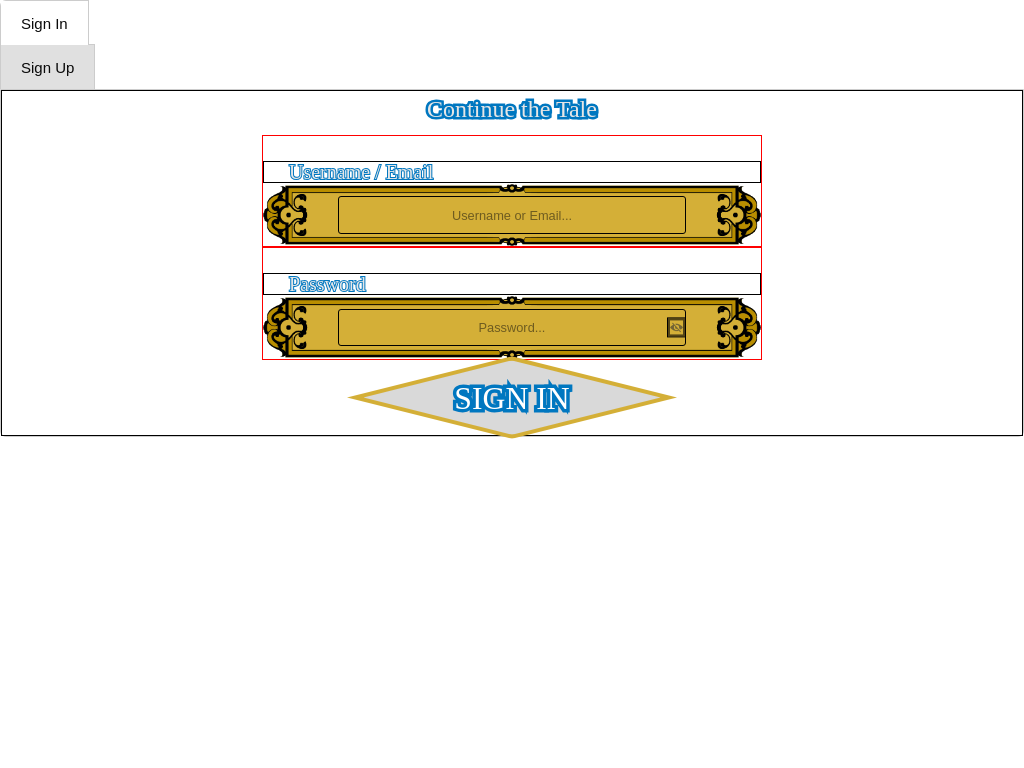
Test: LoginForm.tsx Test Cases › SignUpForm.tsx  Test Cases › Determine the ability to change tab to SIGN UP, then determine if sll input fields exist
Click the tab "Sign Up" at (48, 66), box [0, 44, 95, 89]
(page scrolled)
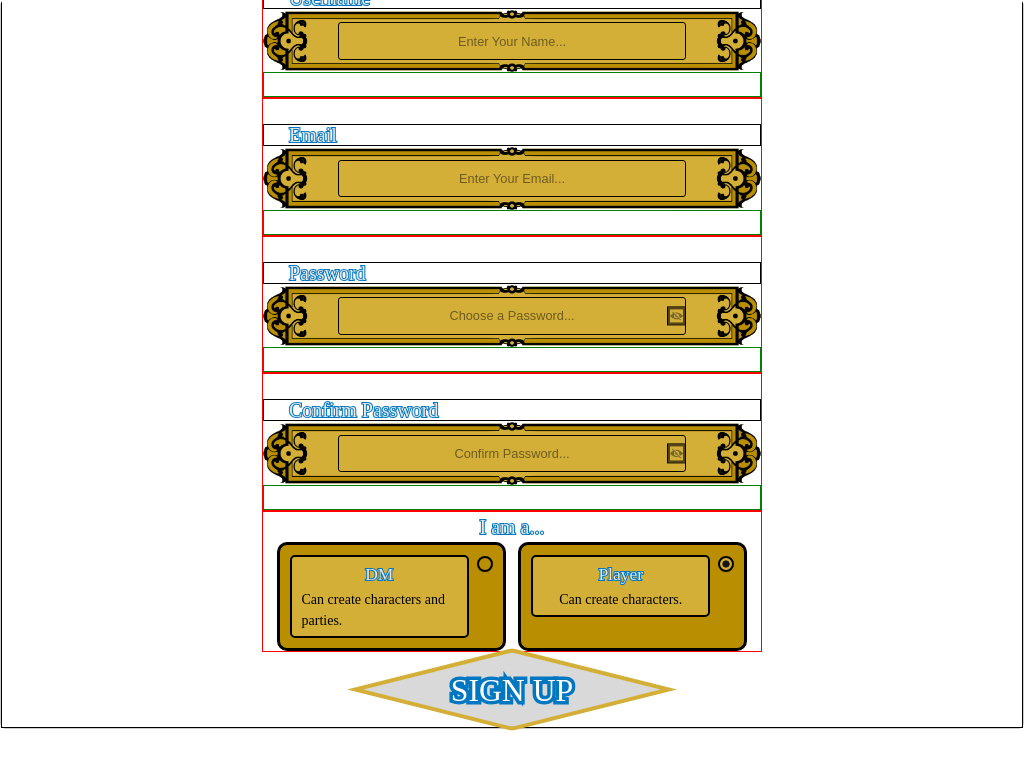
Expected: the field labelled "Username" is shown, [338, 22, 686, 60]
Expected: the field labelled "Email" is shown, [338, 160, 686, 197]
Expected: the password field labelled "Password" is shown, [338, 297, 686, 335]
